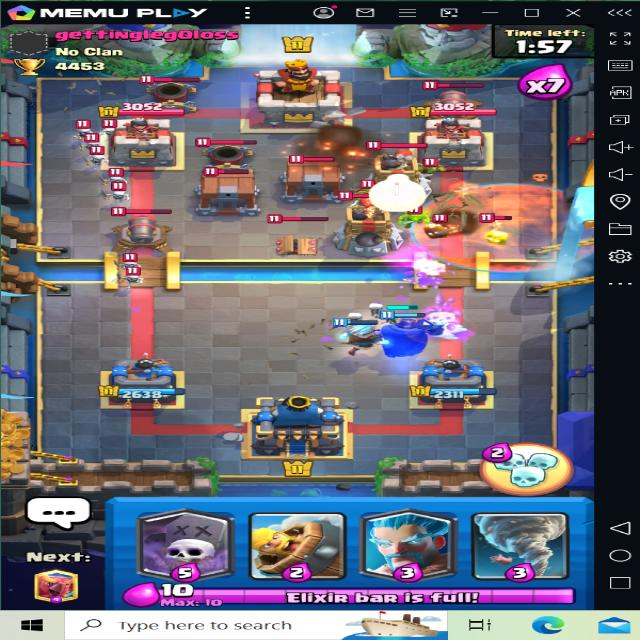bomb-tower: (354, 137, 434, 204), (335, 187, 412, 255)
cannon: (418, 78, 490, 122), (107, 207, 168, 251)
fire-spirit: (418, 212, 456, 236), (475, 219, 509, 243)
goblin: (401, 204, 431, 232), (368, 171, 402, 195)
goblin-cage: (280, 150, 350, 198), (194, 166, 266, 212)
mortar: (140, 65, 207, 111), (194, 138, 257, 168)
skeleton: (101, 186, 132, 208), (118, 268, 147, 291), (76, 134, 109, 151), (110, 255, 142, 272), (67, 120, 96, 138), (107, 170, 127, 188), (86, 150, 106, 164)
tesla-closed: (264, 212, 330, 256)
